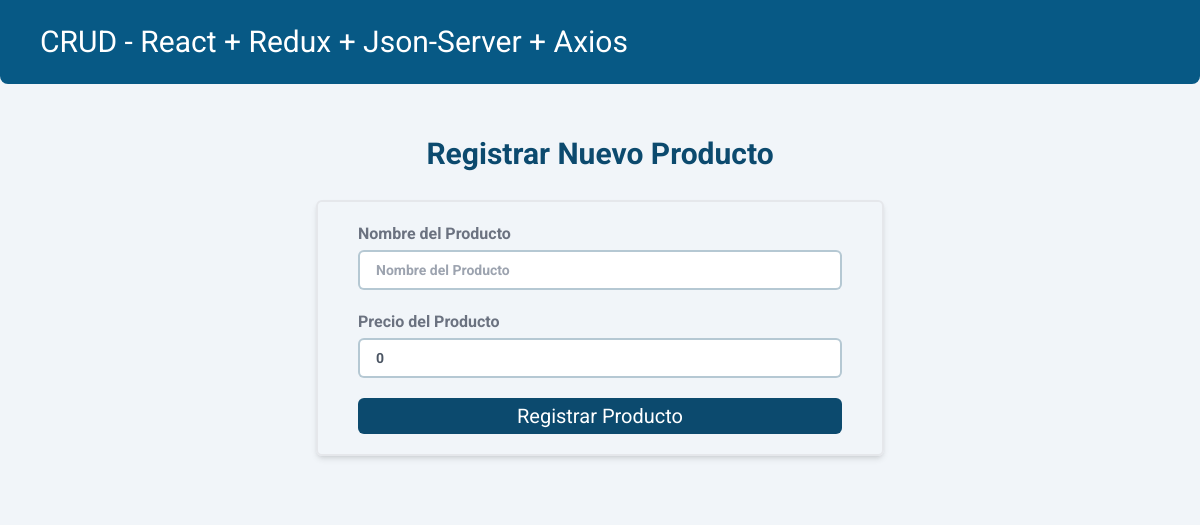
Scenario: <NuevoProducto/> - Verificar la vista de Nuevos Productos › <NuevoProducto/> - Validar el formulario
This screenshot has width=1200, height=525.
Note: simular un click en el formulario
Click the button with test id "boton-submit-nuevo": (600, 416) [358,398,842,434]
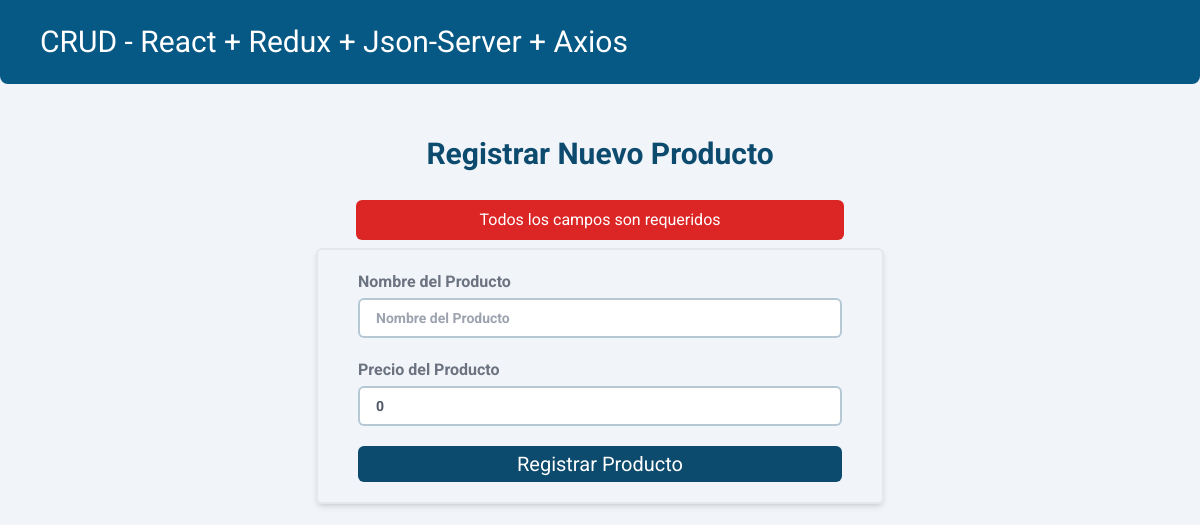
Check: the text "Todos los campos son requeridos" is shown, box [356,200,844,240]
